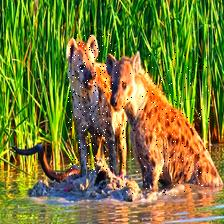hyena: (107, 53, 209, 198), (68, 34, 116, 175)
